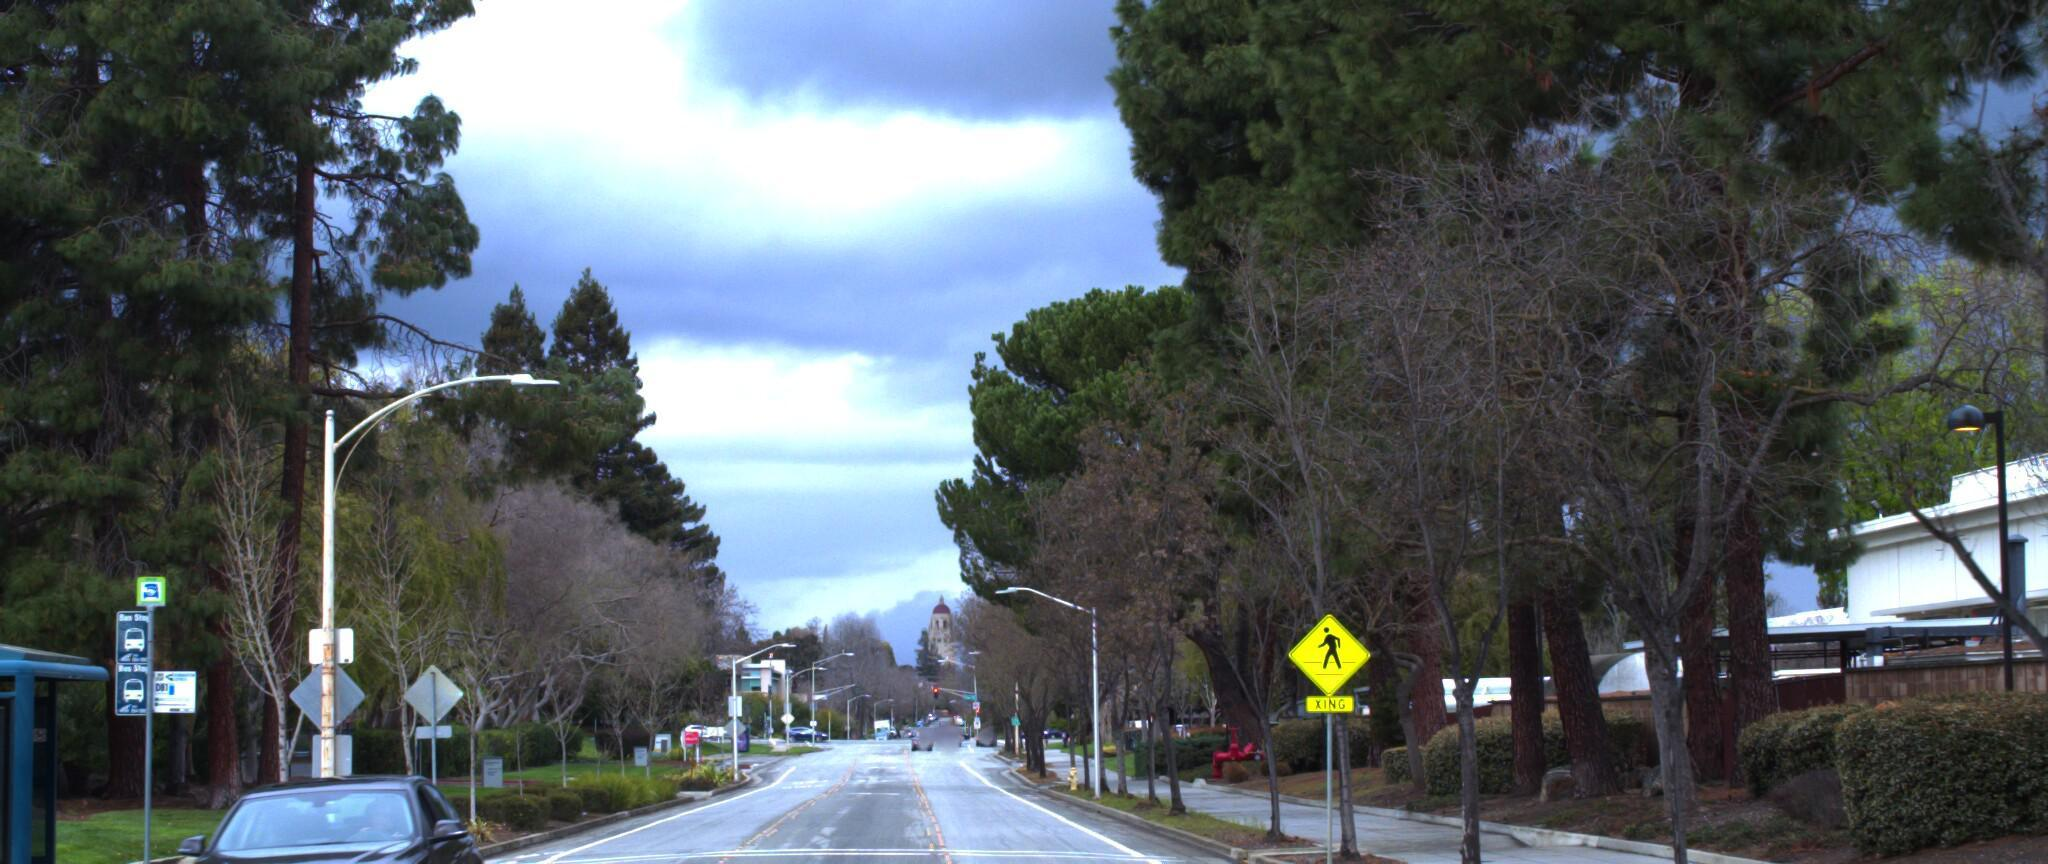car: (142, 748, 509, 864)
